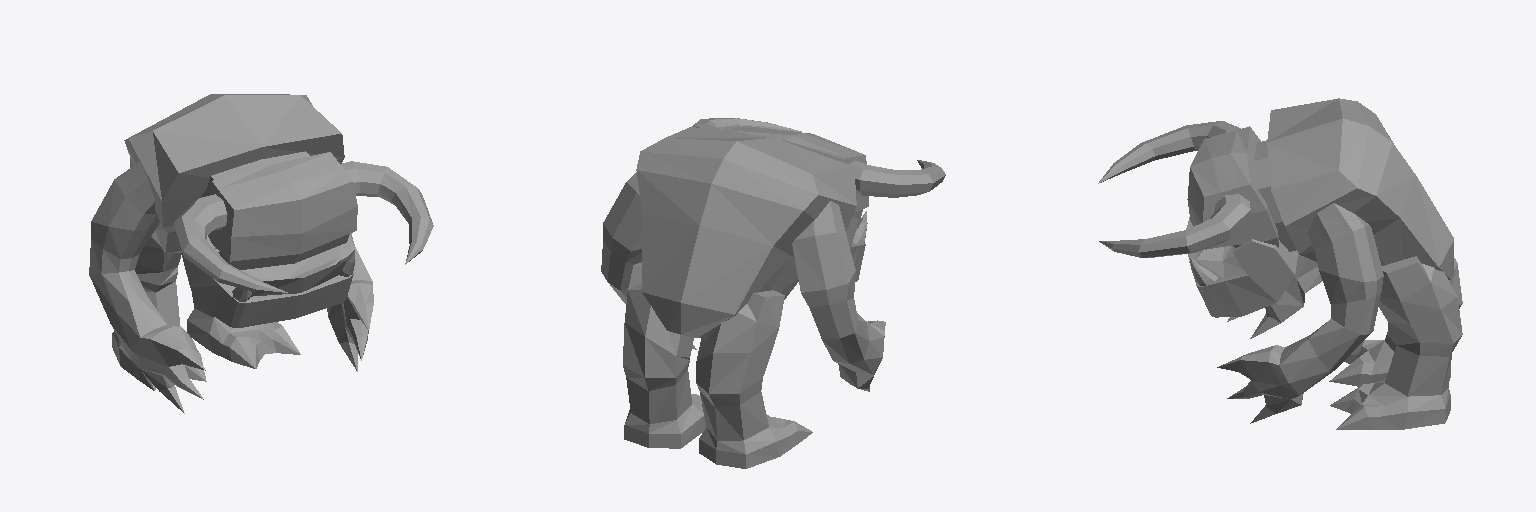
File: pinky.obj
3 views of the same model, side by side, from view 1: azimuth 30°, elevation 25°; view 2: azimuth 150°, elevation 25°; view 3: azimuth 270°, elevation 25° (orthographic).
Visible parts, largest first — view 1: Head, Body, ArmRight, Mouth, LegLeft, LegRight, ArmLeft, Neck; view 2: Body, LegRight, LegLeft, ArmRight, Head, ArmLeft, Mouth; view 3: Body, ArmLeft, LegLeft, Head, Mouth, LegRight, ArmRight, Neck.
Part boxes in pixels (left/top/right/bottom): Head: left=174, top=152, right=433, bottom=292; Body: left=124, top=94, right=344, bottom=253; ArmRight: left=89, top=162, right=205, bottom=413; Mouth: left=181, top=235, right=355, bottom=327; LegLeft: left=187, top=289, right=300, bottom=368; LegRight: left=112, top=231, right=206, bottom=390; ArmLeft: left=327, top=233, right=373, bottom=371; Neck: left=207, top=151, right=309, bottom=186; Body: left=636, top=127, right=856, bottom=337; LegRight: left=696, top=290, right=812, bottom=468; LegLeft: left=623, top=262, right=705, bottom=448; ArmRight: left=792, top=201, right=885, bottom=391; Head: left=692, top=118, right=945, bottom=227; ArmLeft: left=601, top=172, right=696, bottom=349; Mouth: left=846, top=211, right=867, bottom=281; Body: left=1267, top=98, right=1453, bottom=279; ArmLeft: left=1217, top=203, right=1383, bottom=423; LegLeft: left=1330, top=256, right=1462, bottom=429; Head: left=1098, top=121, right=1278, bottom=257; Mouth: left=1186, top=217, right=1297, bottom=317; LegRight: left=1329, top=258, right=1462, bottom=386; ArmRight: left=1227, top=253, right=1321, bottom=338; Neck: left=1254, top=140, right=1296, bottom=251.
Bounding box in the file's own units: 1.92 × 2 × 2.4.